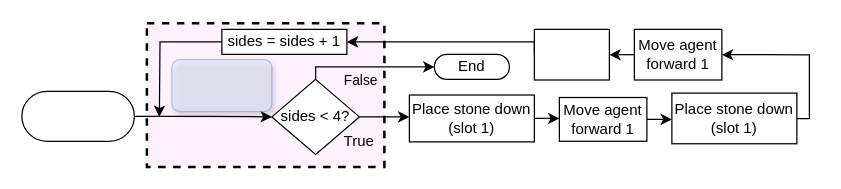
The diagram is 841 pixels wide and 189 high, and some of its shapes have lost their labels. Each missing label, with the centre of its shape:
"Define create_layer" goes at (77,115).
"Tip - Use a for loop here" goes at (222,86).
"Turn agent left" goes at (571,54).
